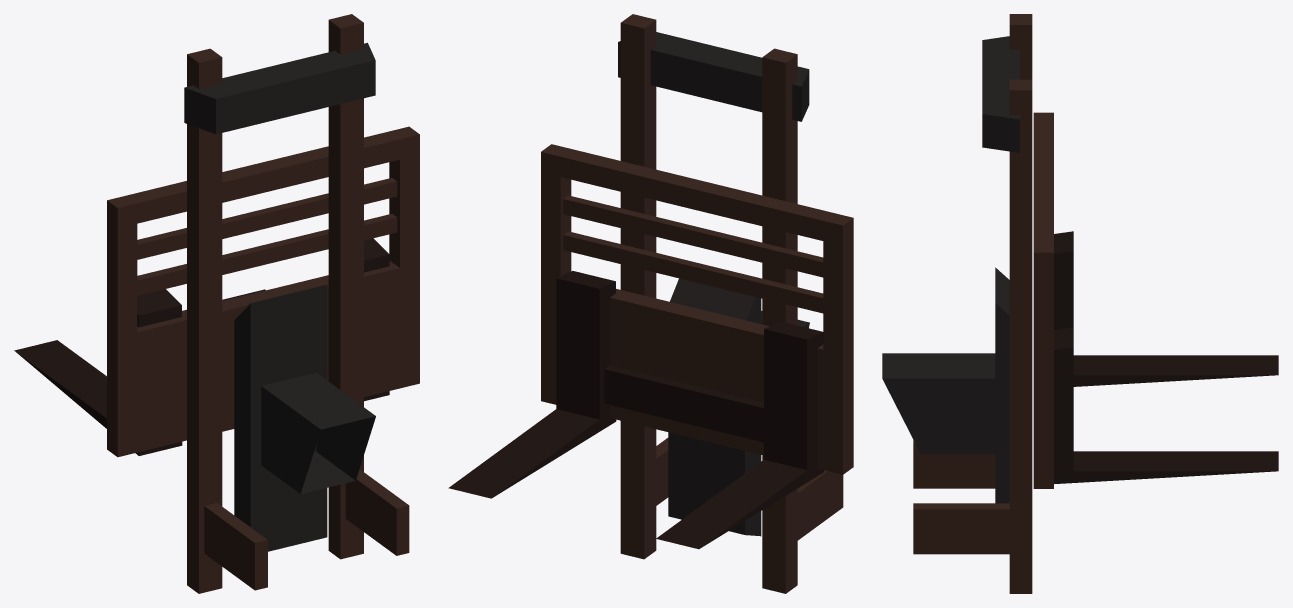
The model's file is forklift_front.fbx.
The picture shows the model from 3 angles, left to right: view 1: azimuth 30°, elevation 25°; view 2: azimuth 150°, elevation 25°; view 3: azimuth 270°, elevation 25°; orthographic projection. The views are drawn at different scales.
Visible parts, largest first — view 1: forklift_front; view 2: forklift_front; view 3: forklift_front.
Boxes of the visible parts, x1,y1,x2,y2 form: forklift_front: (14, 14, 419, 593); forklift_front: (448, 14, 853, 593); forklift_front: (882, 14, 1278, 593).
Size of the model in its own units: 158 by 265 by 189.
